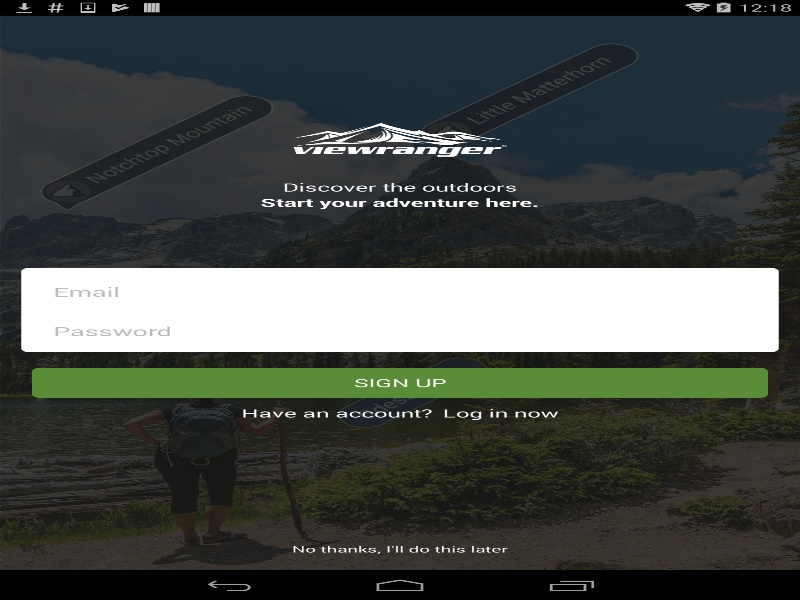Button: (32, 367, 768, 397)
Input: (37, 277, 778, 300), (37, 317, 778, 340)
